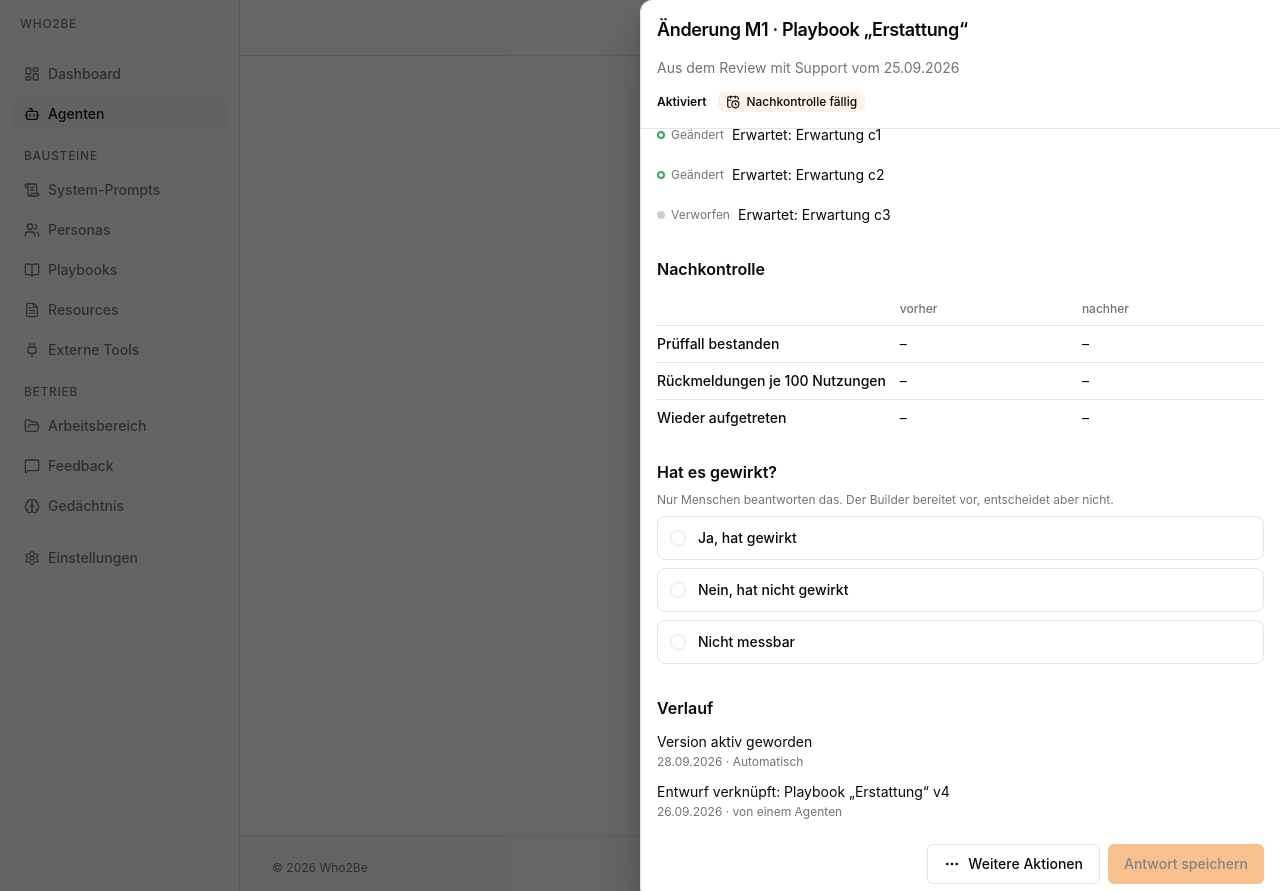
it: ChangeActions: Fehler › measure_transition_forbidden (409, QE3): neu laden und Text
The image size is (1280, 891).
(page scrolled)
Click the radio button named "Ja, hat gewirkt" next to "Ja, hat gewirkt". click: (678, 538)
box: [670, 530, 686, 546]
(page scrolled)
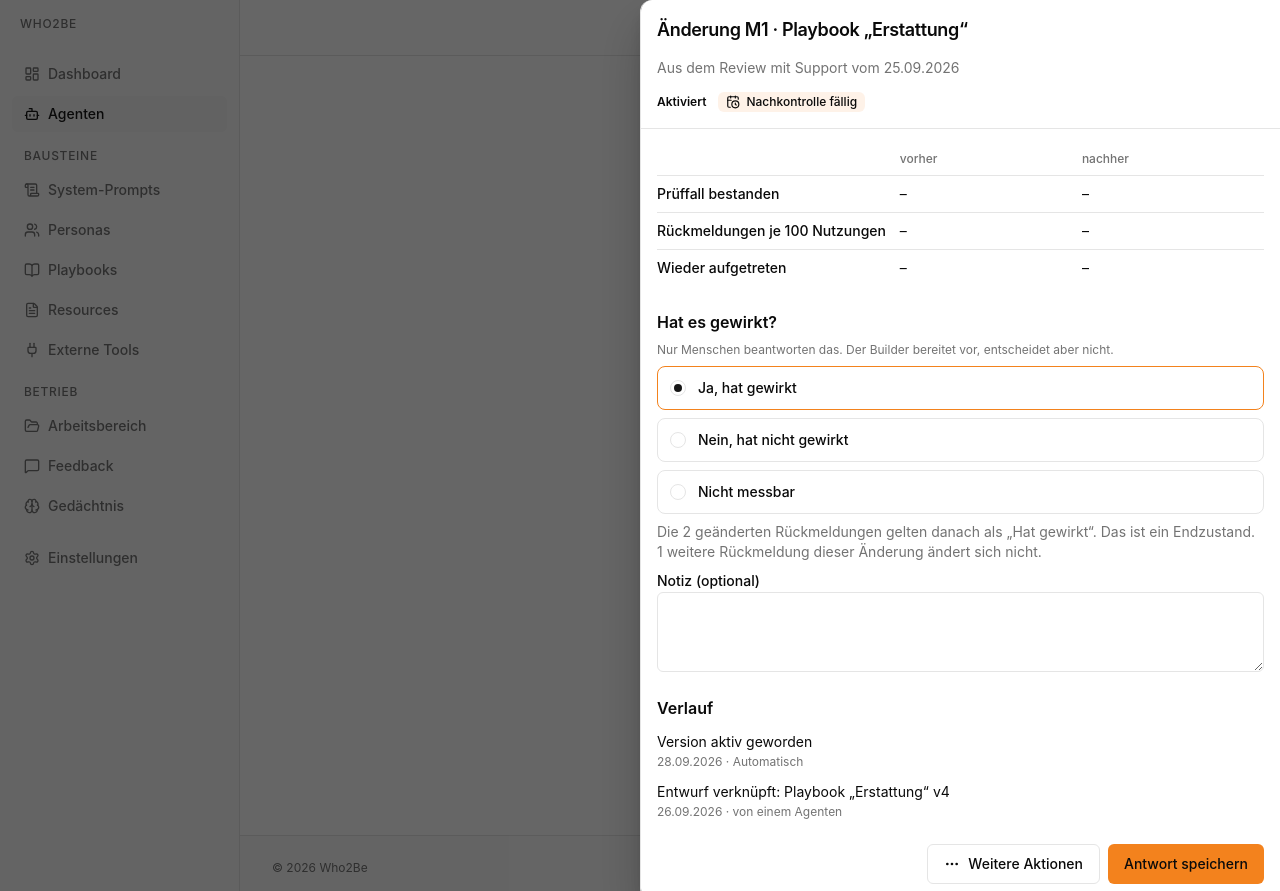
Click the button "Antwort speichern". click: (1186, 864)
box: [1108, 844, 1264, 884]
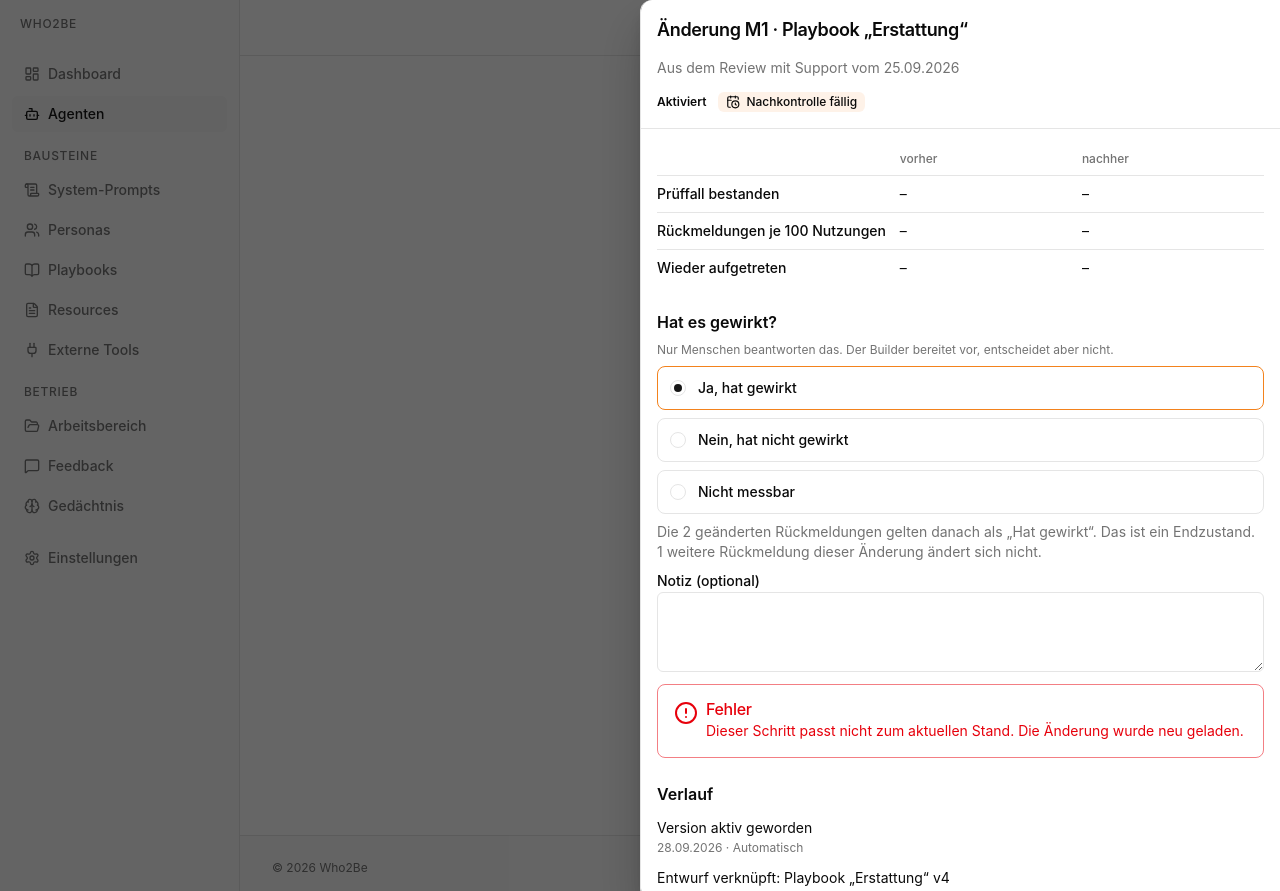
Expected: the message shows "Dieser Schritt passt nicht zum aktuellen Stand. Die Änderung wurde neu geladen.", [706, 722, 1244, 739]
